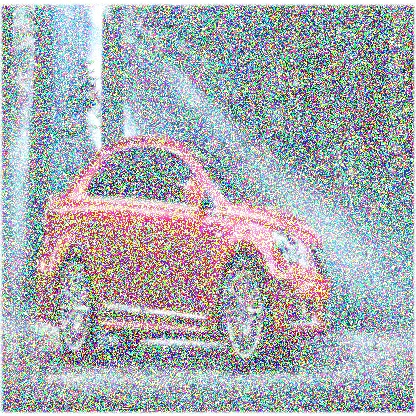Vehicle: (34, 126, 336, 381)
